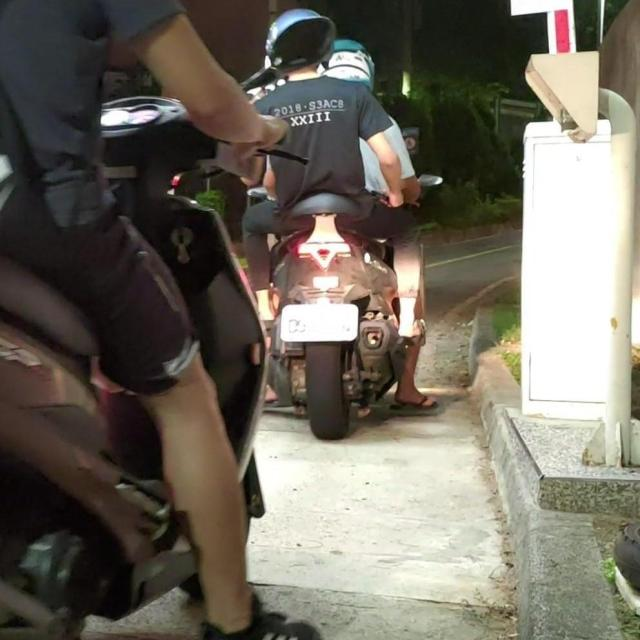W: (275, 292, 362, 346)
